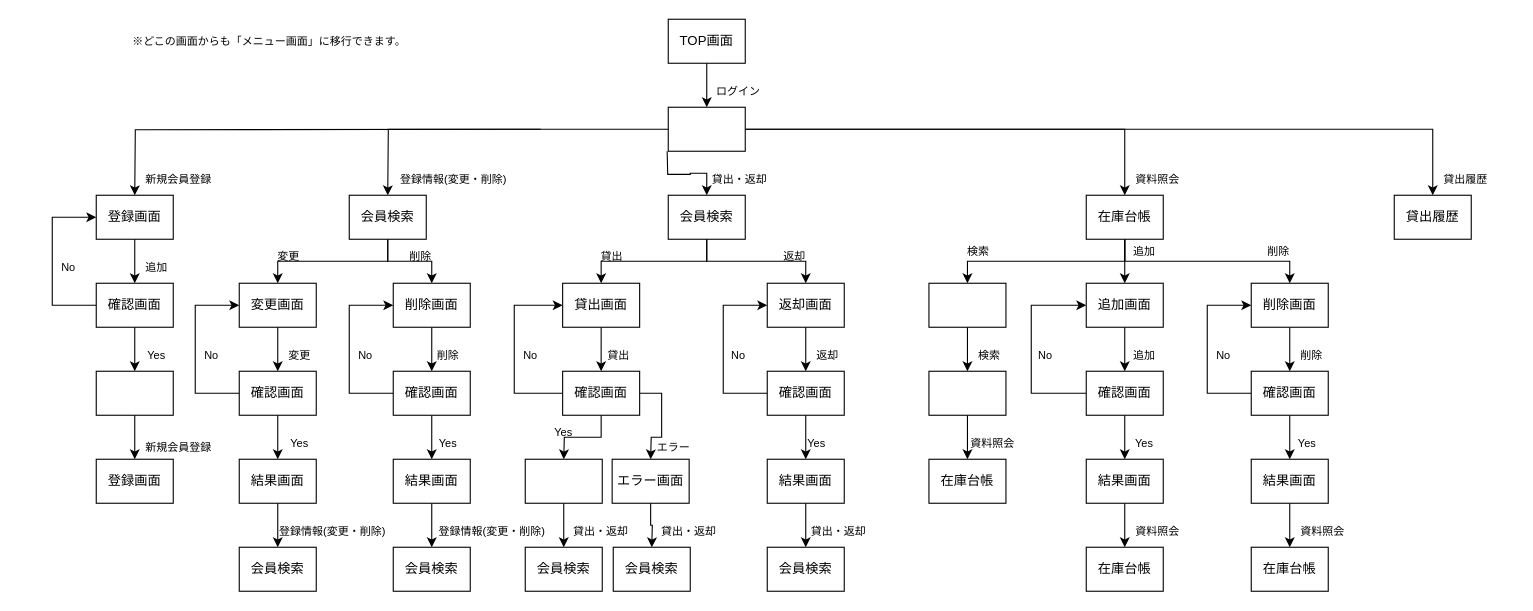
The diagram is 1533 pixels wide and 611 high, and some of its shapes have lost their labels. Here are the shapes that lost their labels. From the top down, the box of each, then its label:
(667, 106, 745, 151): メニュー 画面
(928, 282, 1006, 327): 検索画面
(95, 370, 173, 415): 登録完了 画面
(928, 370, 1006, 415): 詳細画面
(524, 458, 602, 503): 完了画面
